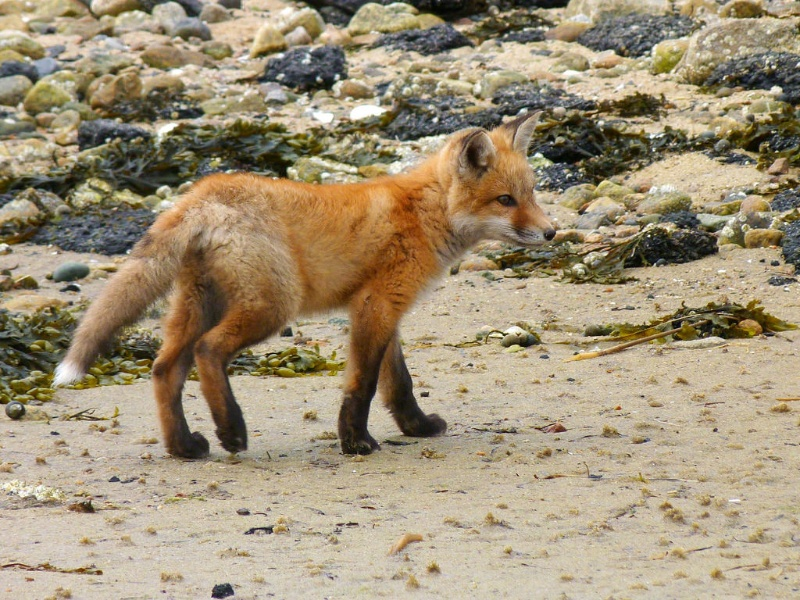fox: (46, 103, 562, 476)
